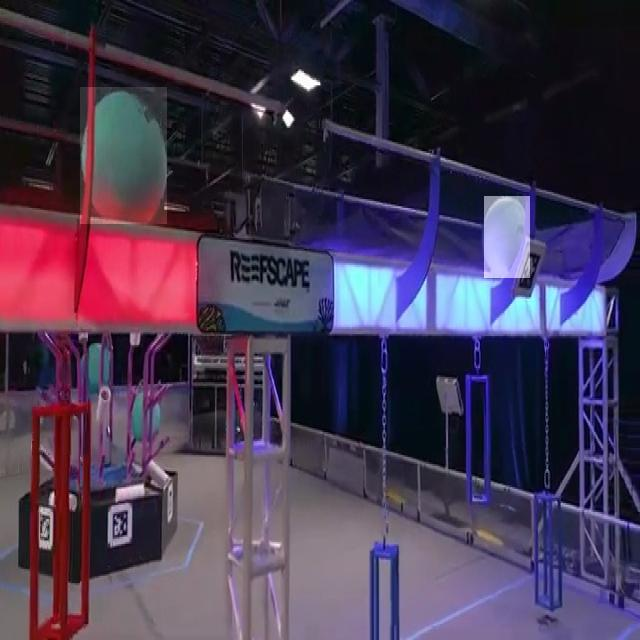Algae: (80, 87, 167, 224), (484, 196, 530, 278)
